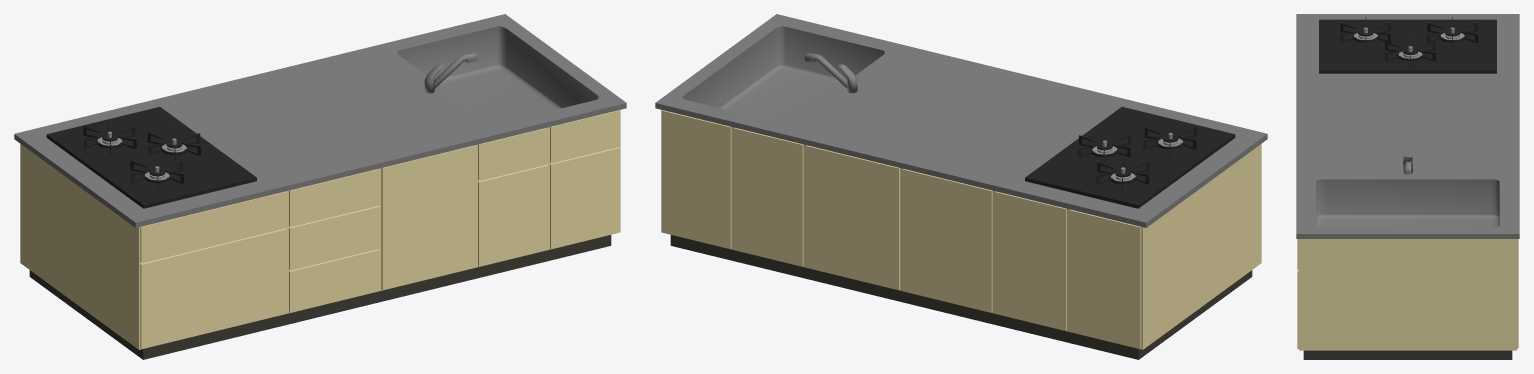
The model's file is kitchen_s1.glb.
3 views of the same model, side by side, from view 1: azimuth 30°, elevation 25°; view 2: azimuth 150°, elevation 25°; view 3: azimuth 270°, elevation 25° (orthographic). The views are drawn at different scales.
Parts seen in each view (by area): view 1: 調理台.001; view 2: 調理台.001; view 3: 調理台.001.
Boxes of the visible parts, x1=… form: 調理台.001: x1=14, y1=14, x2=626, y2=359; 調理台.001: x1=655, y1=14, x2=1267, y2=359; 調理台.001: x1=1296, y1=14, x2=1519, y2=359.
Bounding box in the file's own units: 2.1 × 0.7 × 0.9.
